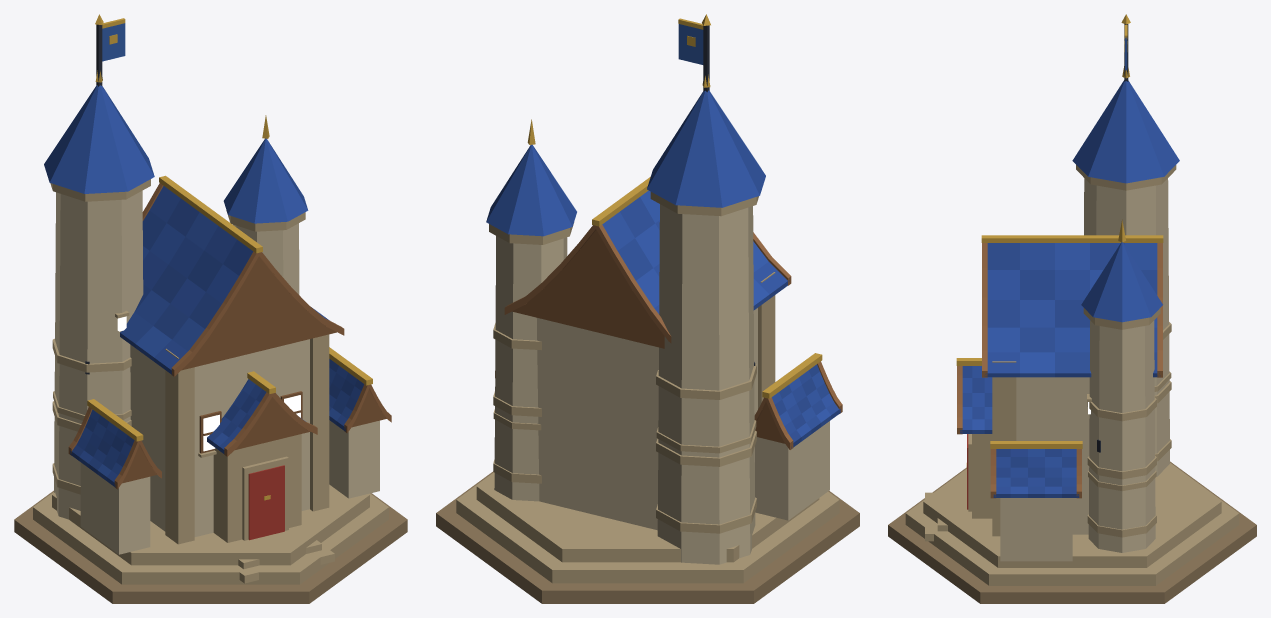
The model's file is castle_t3.glb.
3 renders of one model, left to right at view 1: azimuth 30°, elevation 25°; view 2: azimuth 150°, elevation 25°; view 3: azimuth 270°, elevation 25°, orthographic. The views are drawn at different scales.
Parts seen in each view (by area): view 1: body, glow; view 2: body; view 3: body.
Boxes of the visible parts, <box> form: body: <box>14,14,407,603</box>; glow: <box>117,316,300,451</box>; body: <box>436,14,859,603</box>; body: <box>888,14,1256,603</box>.
Size of the model in its own units: 3.98 by 6.67 by 4.6.
